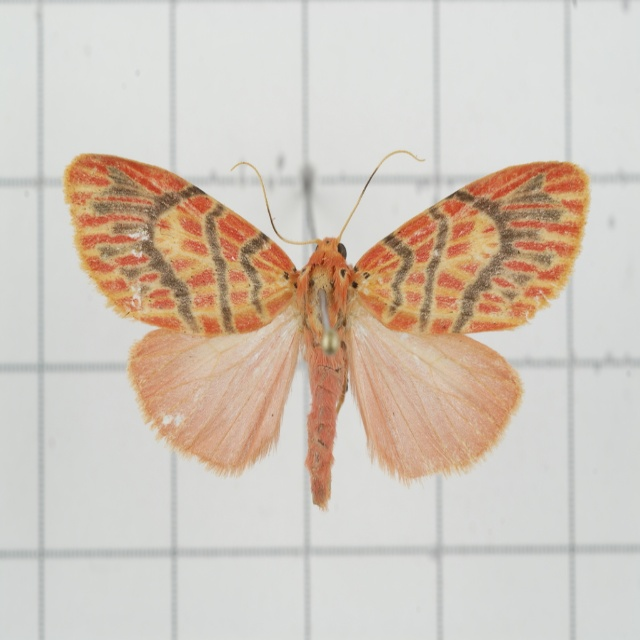Butterfly: (82, 133, 597, 524)
